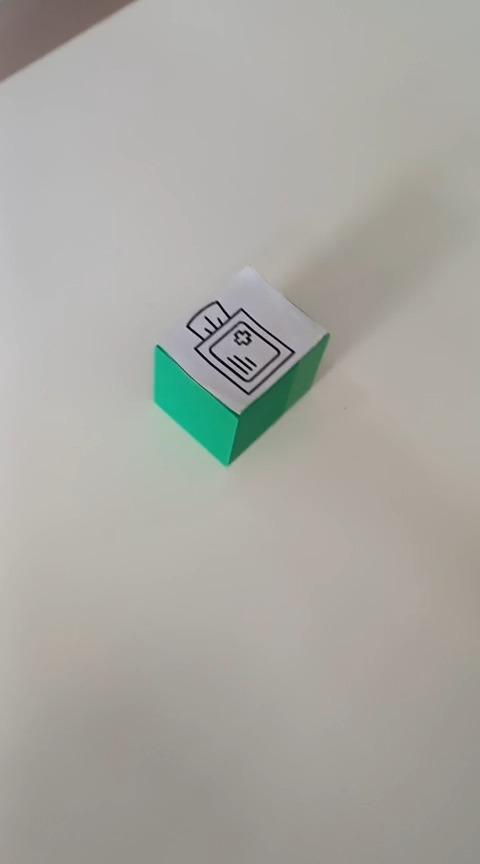Gauze: (152, 263, 330, 467)
